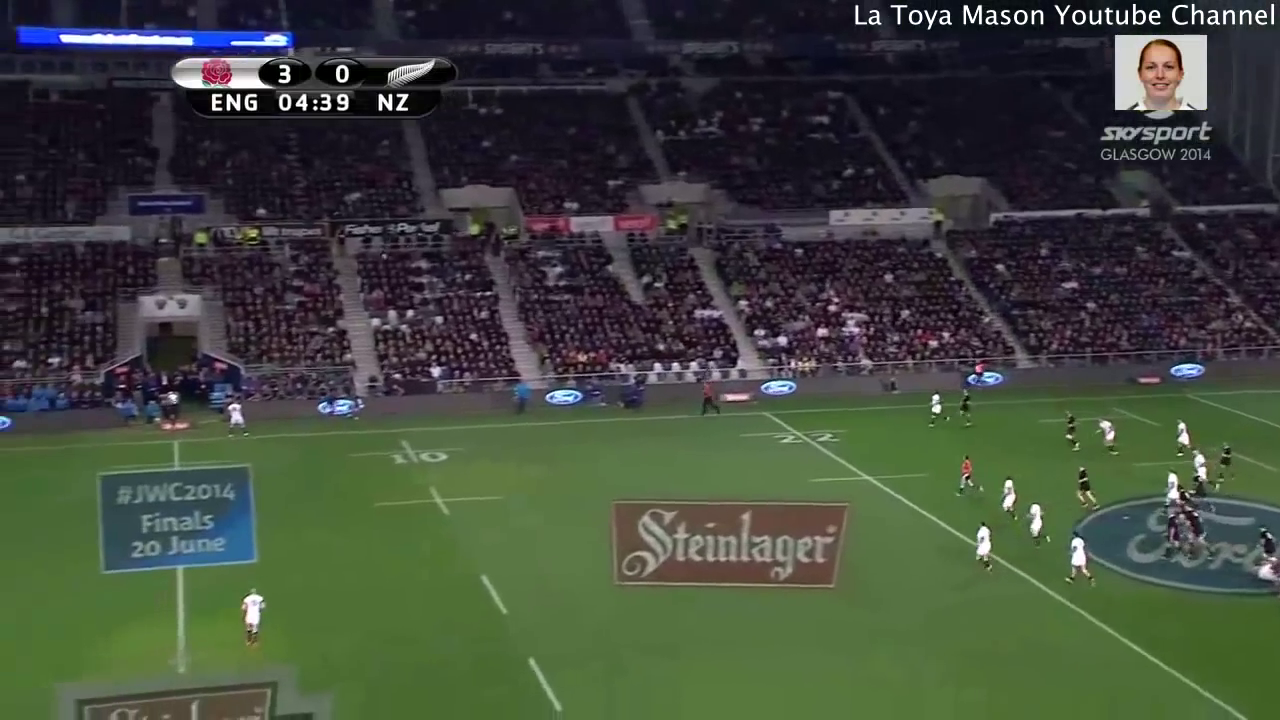10_metre: (365, 478, 508, 516), (342, 436, 479, 471)
player: (1176, 504, 1224, 562), (1056, 527, 1099, 591), (966, 512, 1005, 579), (235, 582, 273, 650), (952, 446, 987, 500), (1151, 501, 1185, 556), (1068, 460, 1101, 516), (991, 469, 1022, 524), (1024, 498, 1053, 553), (922, 388, 956, 434), (1186, 465, 1217, 515), (1092, 409, 1121, 461), (1250, 525, 1280, 572), (221, 397, 250, 442), (1058, 411, 1085, 459), (1214, 437, 1238, 487), (1184, 448, 1214, 488), (1172, 412, 1197, 459), (1161, 464, 1183, 512), (956, 384, 976, 426)
